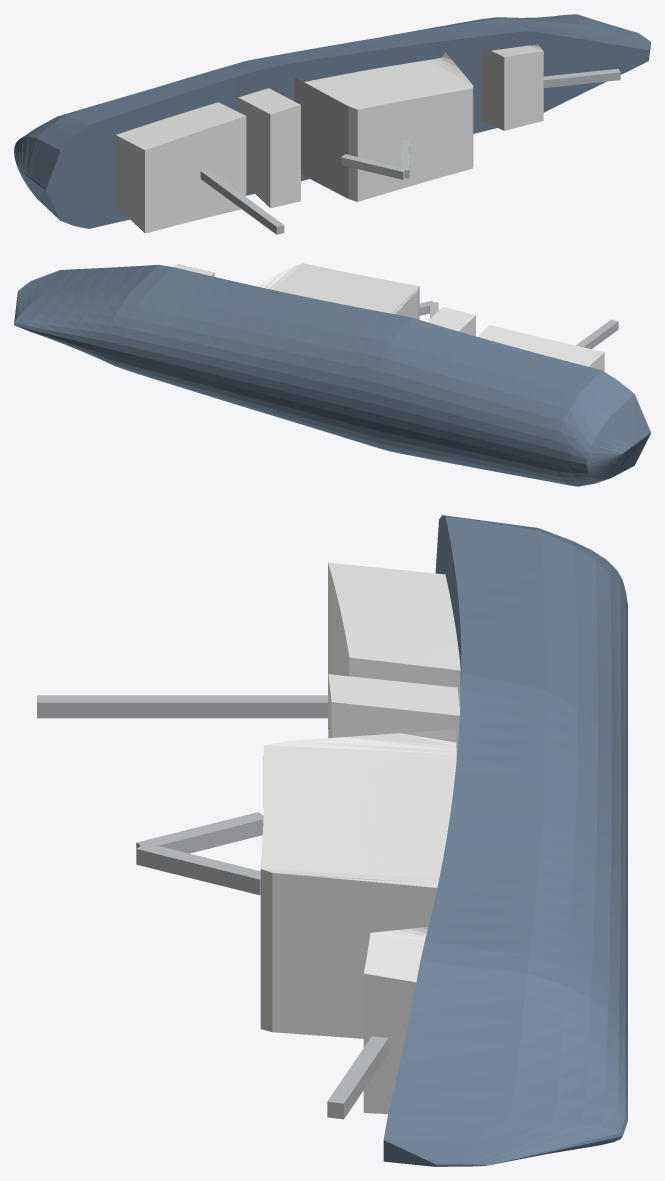
Rendered from loft-warship-sheered.glb.
The picture shows the model from 3 angles, top to bottom: view 1: azimuth 30°, elevation 25°; view 2: azimuth 150°, elevation 25°; view 3: azimuth 270°, elevation 25°; orthographic projection. The views are drawn at different scales.
Visible parts, largest first — view 1: warship-loft-sheered; view 2: warship-loft-sheered; view 3: warship-loft-sheered.
Boxes of the visible parts, bbox=[...] form: warship-loft-sheered: bbox=[14, 14, 650, 234]; warship-loft-sheered: bbox=[14, 263, 650, 486]; warship-loft-sheered: bbox=[37, 515, 627, 1166].
Bounding box in the file's own units: 1.93 × 0.3773 × 0.8165.
